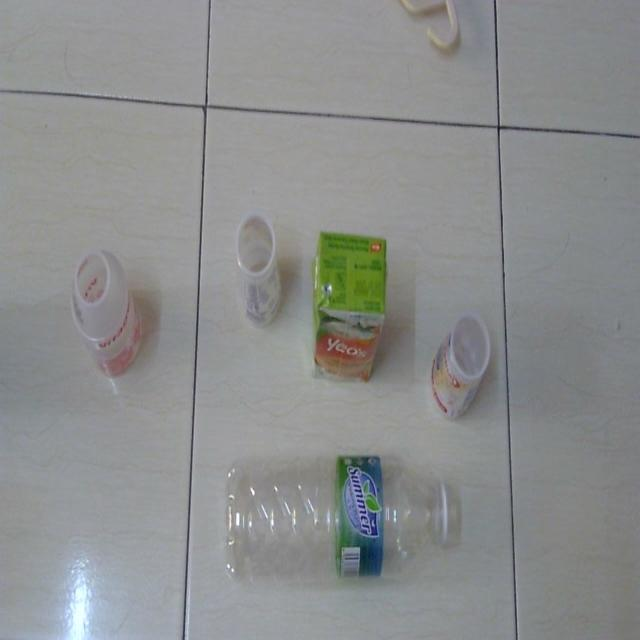plastic_laydown_0rotation: (219, 449, 465, 601)
plastic_standrotation: (309, 224, 387, 388), (67, 244, 144, 374), (428, 307, 494, 424), (227, 212, 286, 321)
